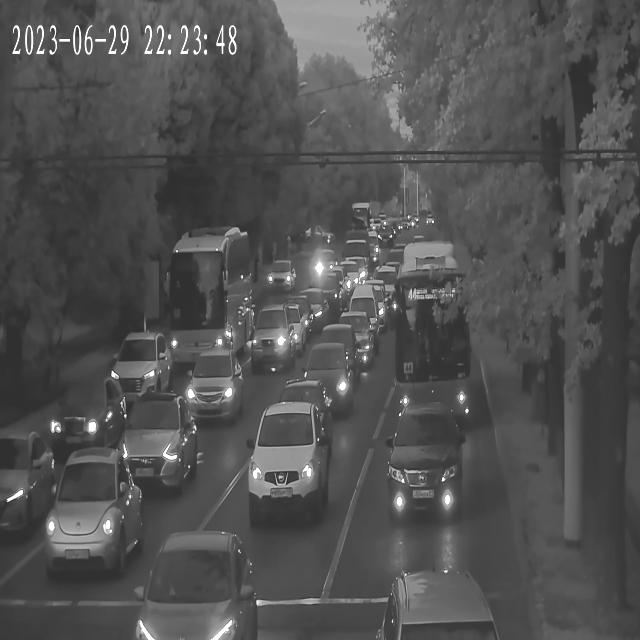Bus: (393, 242, 471, 414), (165, 230, 253, 359), (340, 231, 379, 274), (350, 202, 384, 238)
Car: (38, 451, 142, 578), (142, 531, 255, 638), (244, 398, 332, 525), (382, 407, 465, 524), (111, 398, 197, 491), (0, 431, 55, 544), (48, 382, 128, 456), (108, 332, 177, 404), (234, 306, 306, 372), (292, 347, 354, 422), (182, 350, 247, 420), (316, 325, 370, 379), (272, 379, 332, 425), (330, 311, 379, 362), (280, 291, 330, 334), (340, 295, 384, 338), (267, 264, 298, 294)
